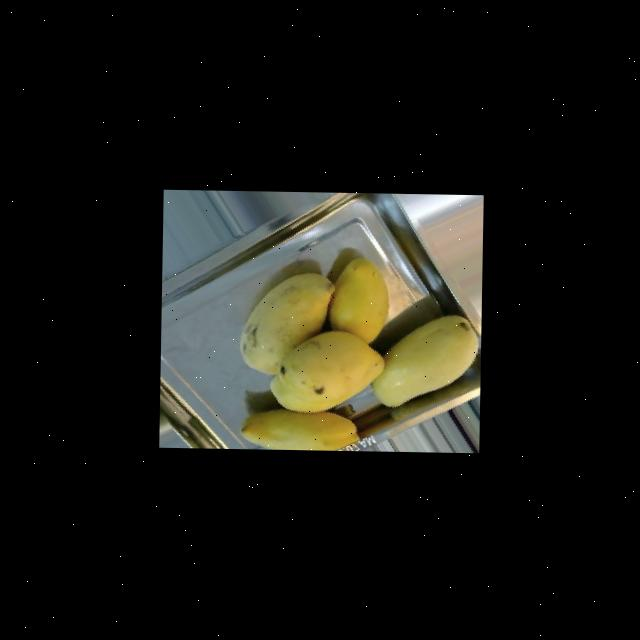Mango: (369, 312, 478, 409), (237, 270, 333, 376), (267, 328, 383, 413), (327, 256, 388, 343), (238, 408, 358, 450)
